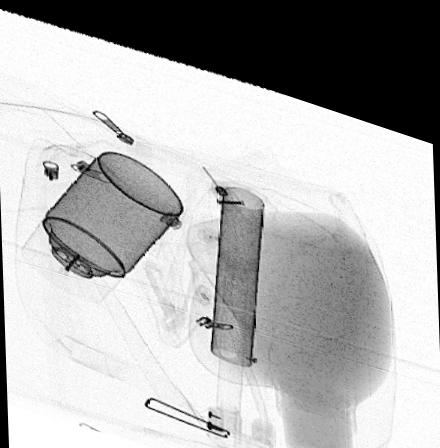Sprayer: (17, 142, 184, 297)
